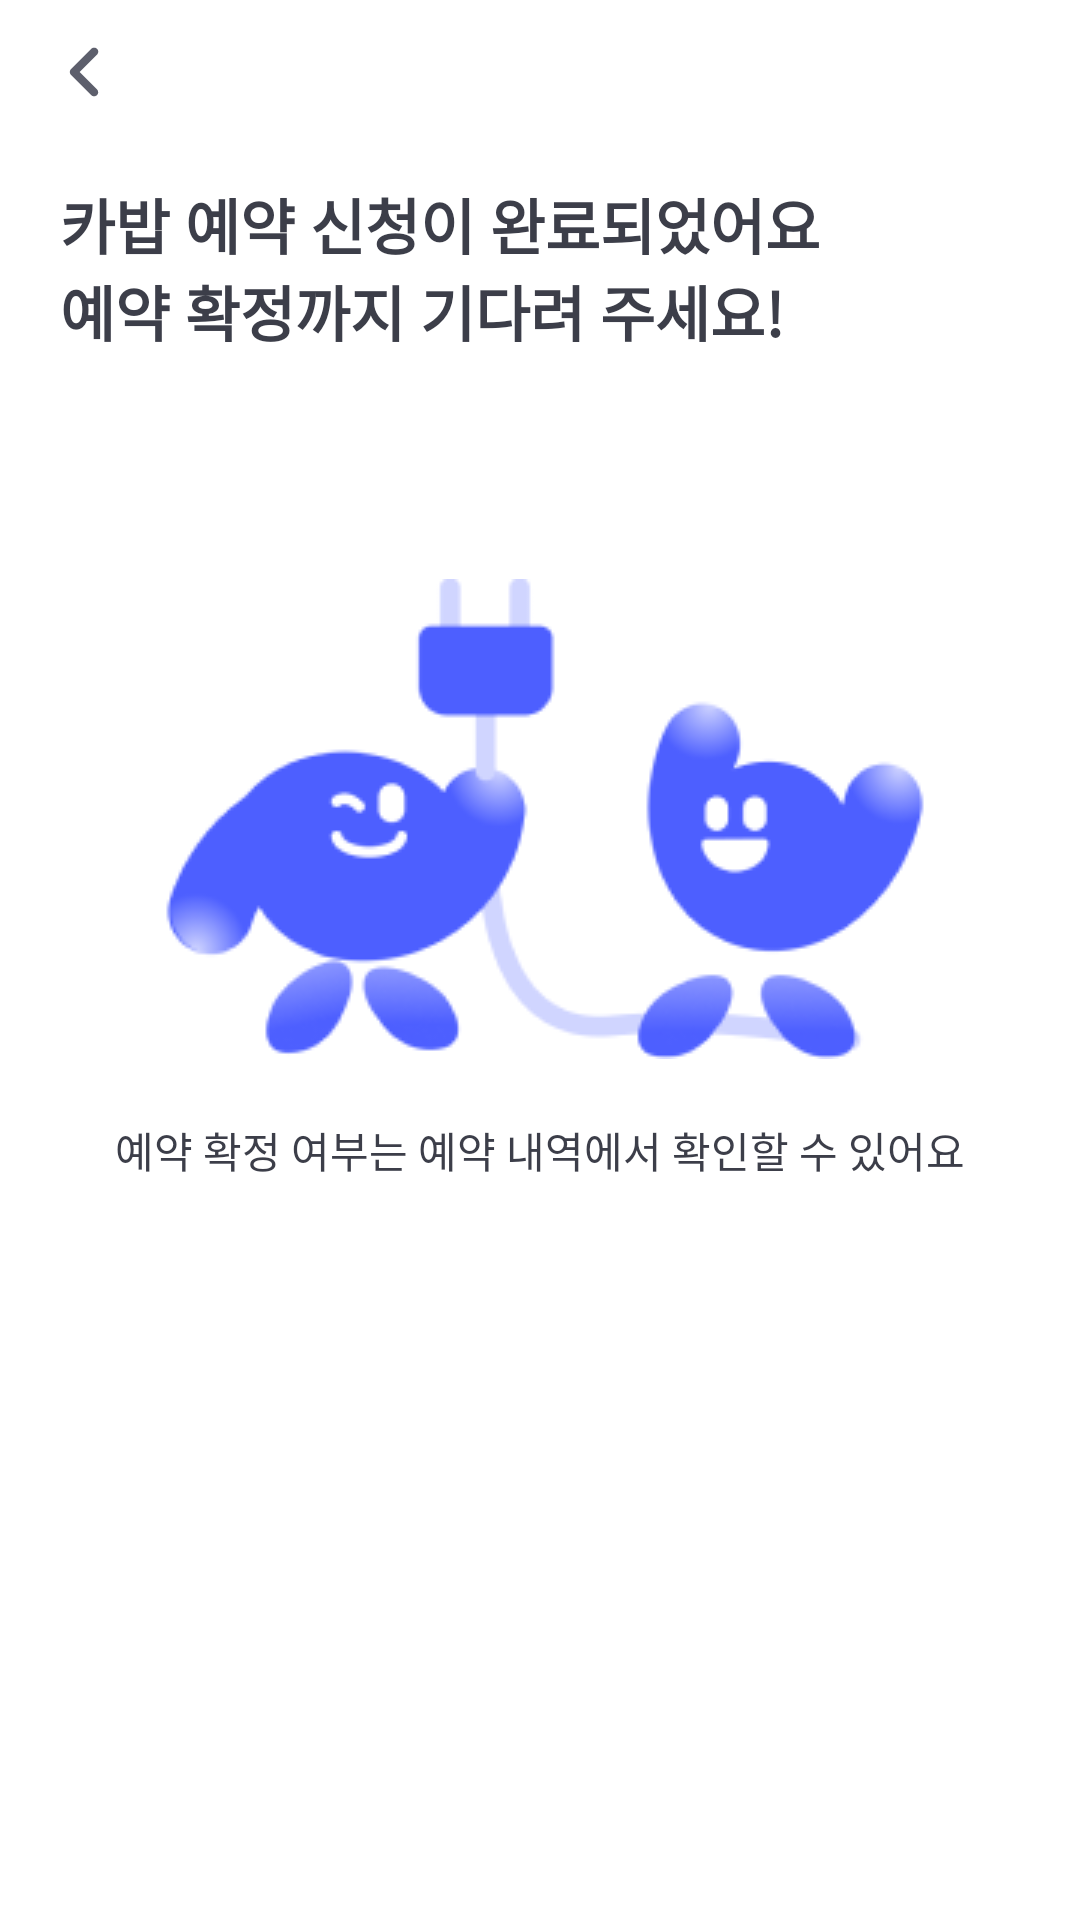

Icon click points for this 1080px×1920px phone screenshot, format point (x, y):
뒤로 가기 버튼: point (84, 72)
